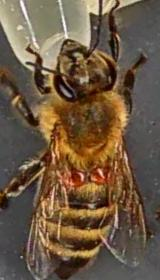varroa_mite: (86, 158, 120, 192), (61, 158, 86, 198)
